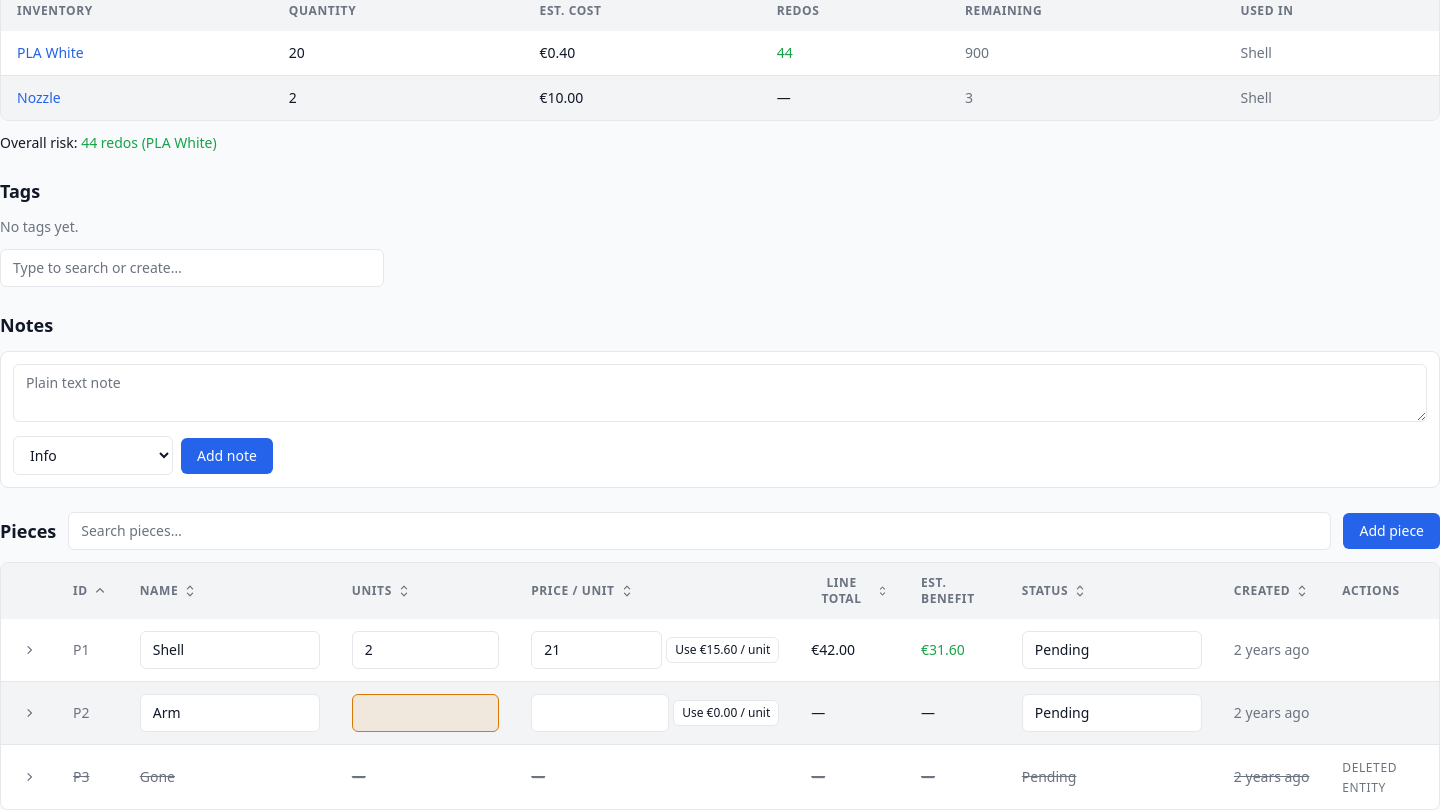
it: JobDetailPage › creates a piece without asking for a job
(page scrolled)
Click the button with test id "add-piece-button": click(1392, 531) [1344,513,1439,549]
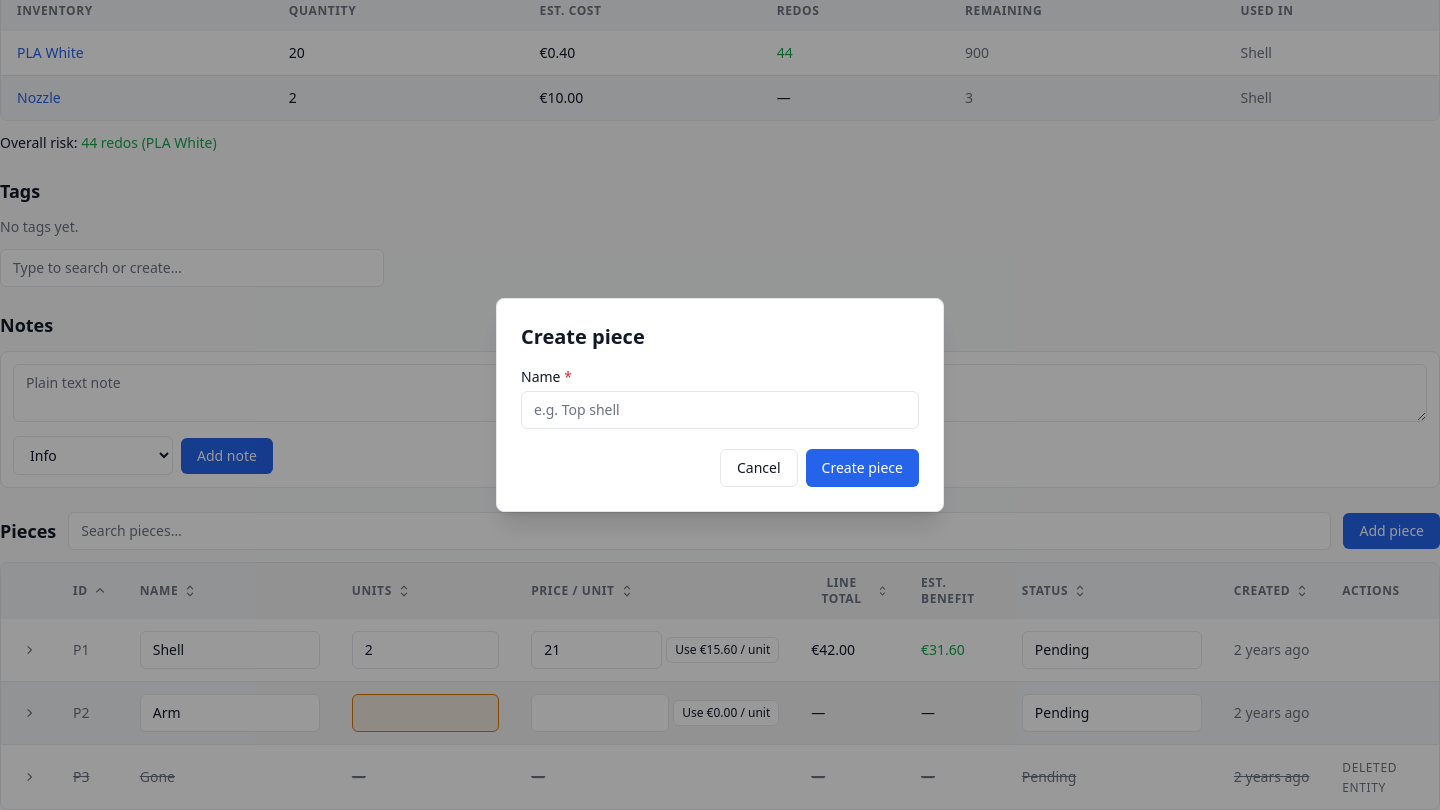
In the field labelled "Name *": (720, 410) [521,391,919,429], type "Lid"
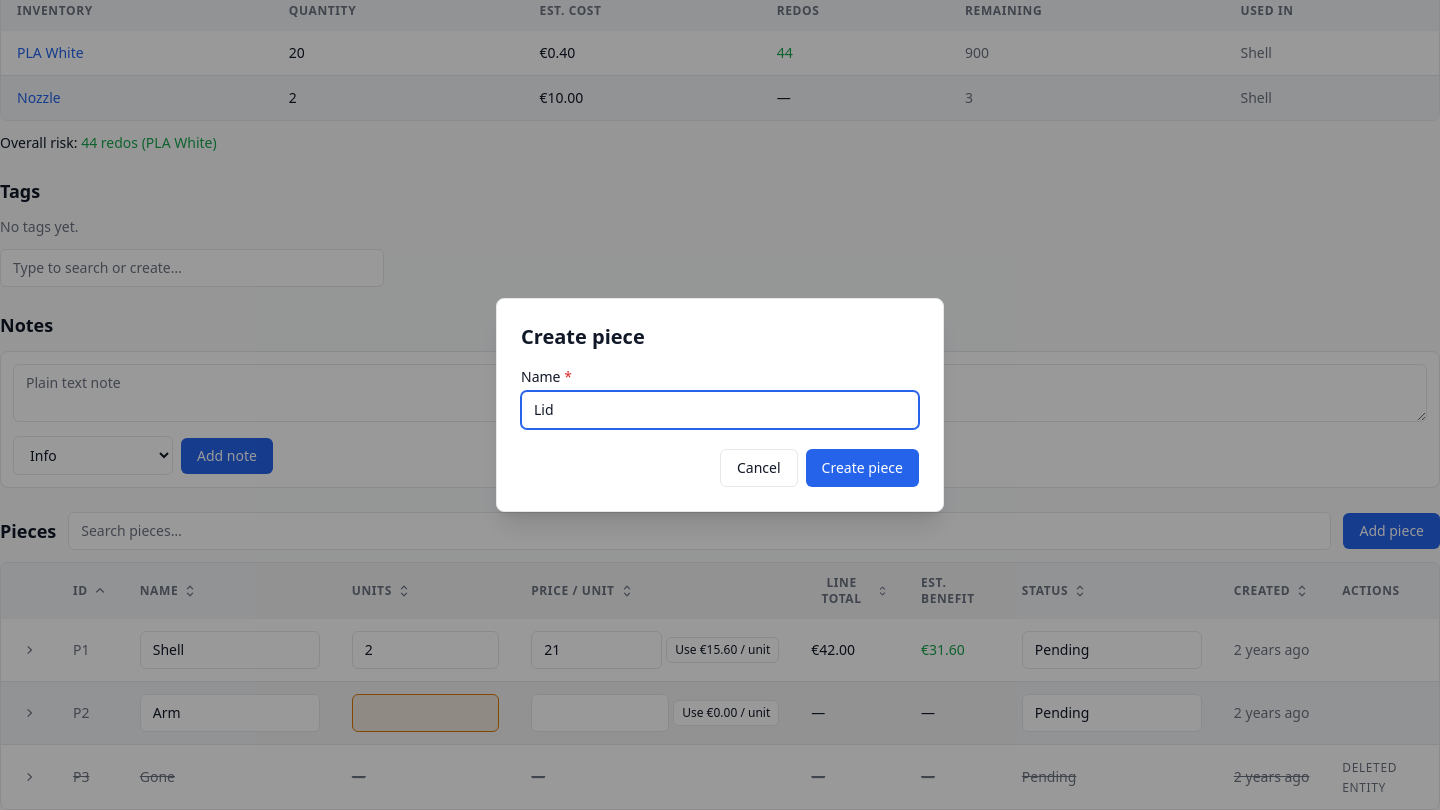
Click the button "Create piece": click(862, 468) [806,449,919,487]
(page scrolled)
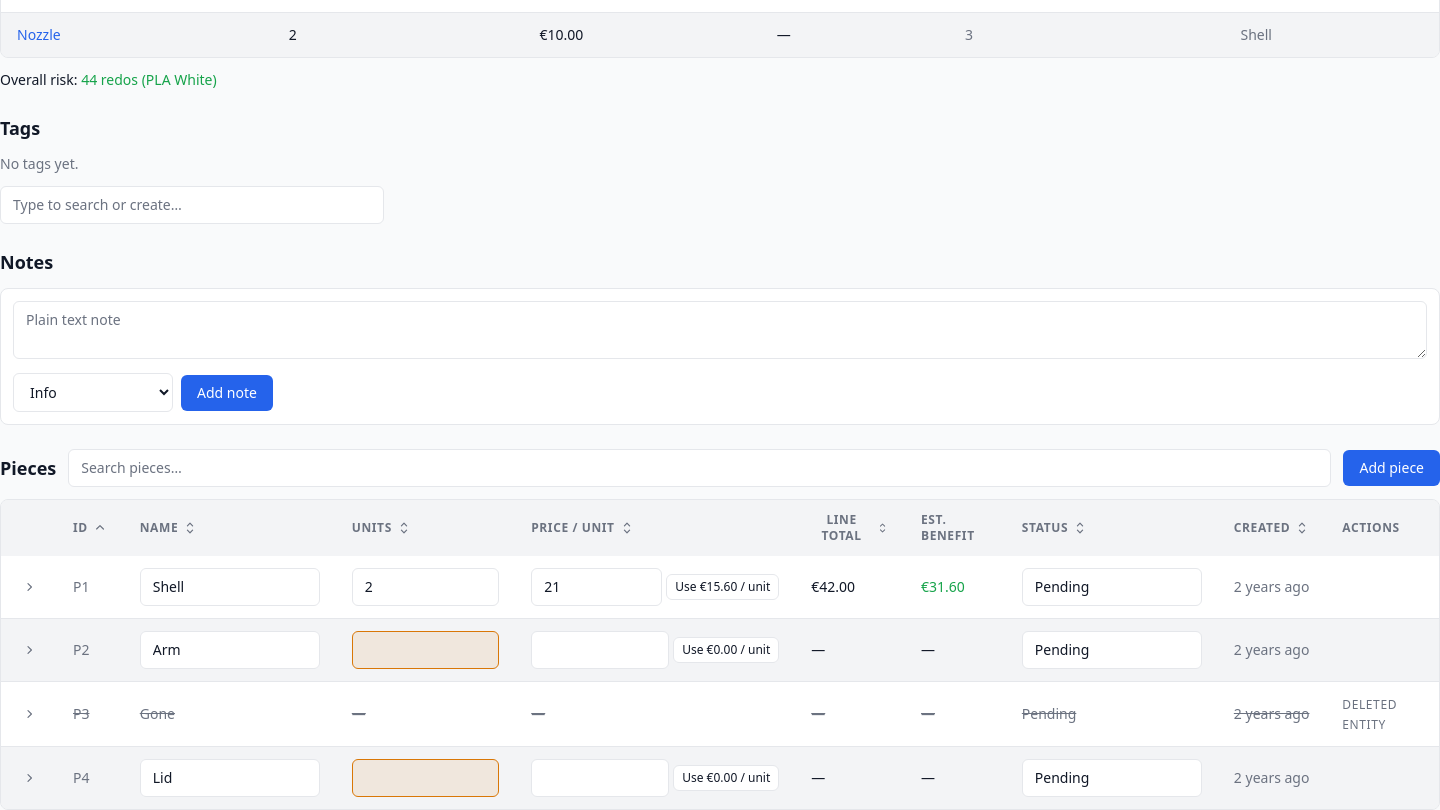
Result: the field with test id "piece-name-P4" holds "Lid" at [140,759,320,797]
